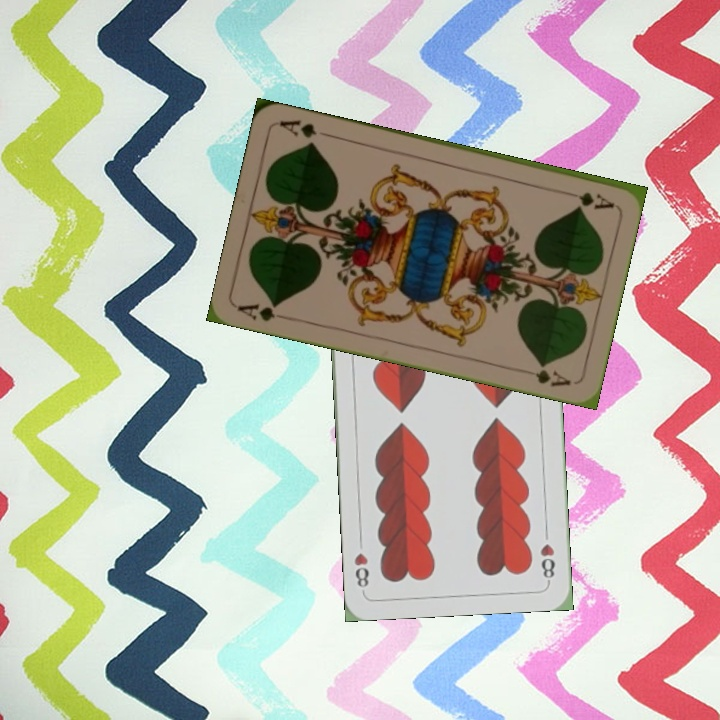GA: (558, 186, 617, 212), (234, 299, 281, 324)
H8: (537, 539, 558, 585)
